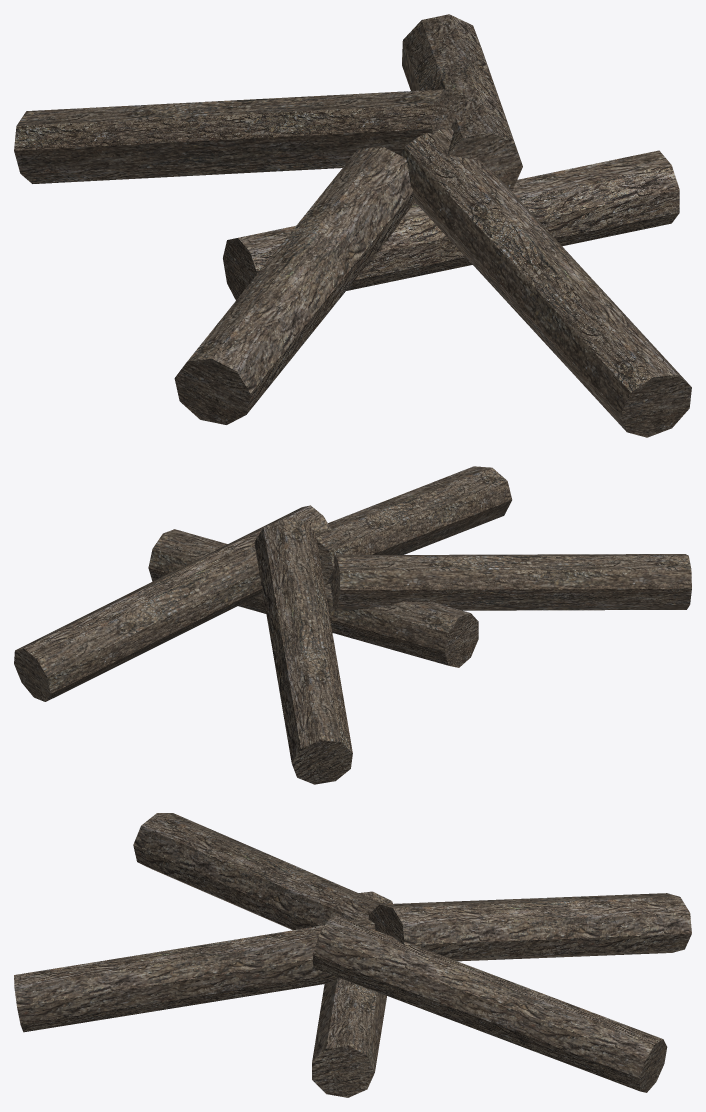
The model's file is Wood (1).obj.
The picture shows the model from 3 angles, top to bottom: view 1: azimuth 30°, elevation 25°; view 2: azimuth 150°, elevation 25°; view 3: azimuth 270°, elevation 25°; orthographic projection. The views are drawn at different scales.
Visible parts, largest first — view 1: Cylinder.003_Cylinder.007; view 2: Cylinder.003_Cylinder.007; view 3: Cylinder.003_Cylinder.007.
Part boxes in pixels (left/top/right/bottom): Cylinder.003_Cylinder.007: left=14, top=14, right=691, bottom=437; Cylinder.003_Cylinder.007: left=14, top=466, right=691, bottom=784; Cylinder.003_Cylinder.007: left=14, top=813, right=691, bottom=1097.
Size of the model in its own units: 8.22 by 2.19 by 10.31.
1 material, 1 textured.
